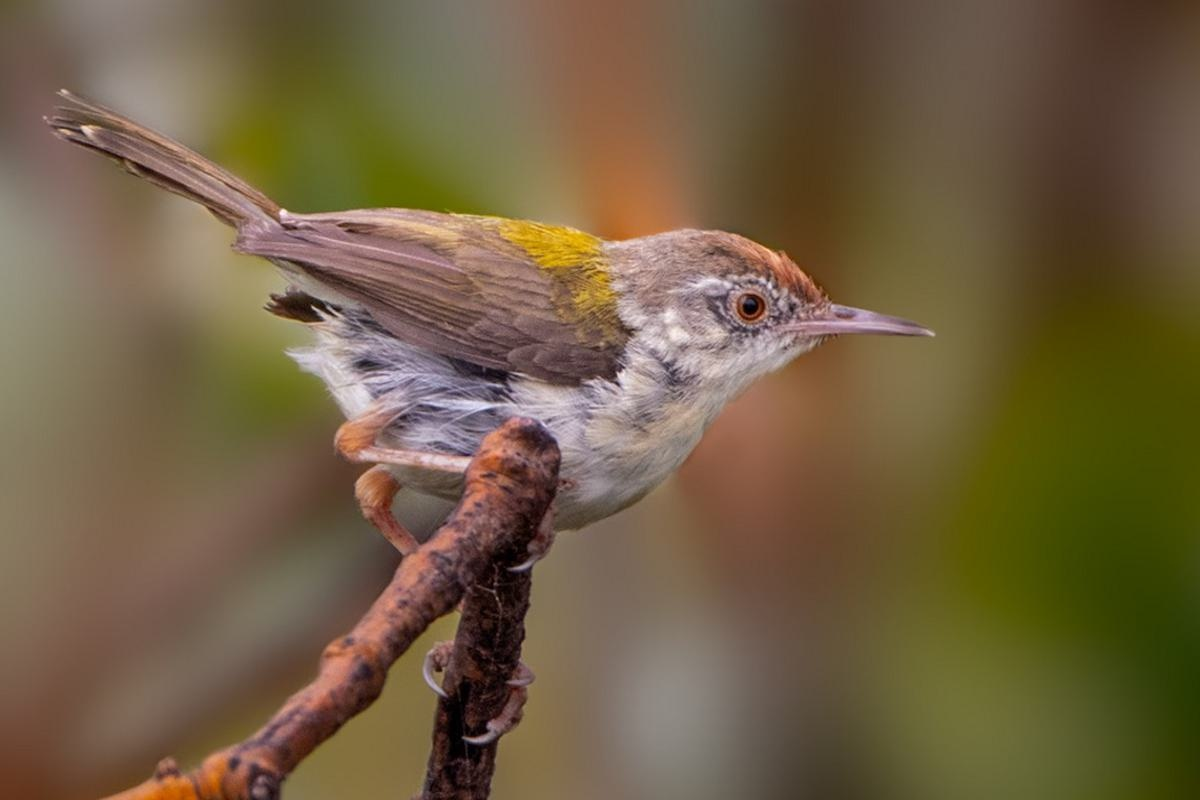tailorbird: (14, 66, 953, 573)
